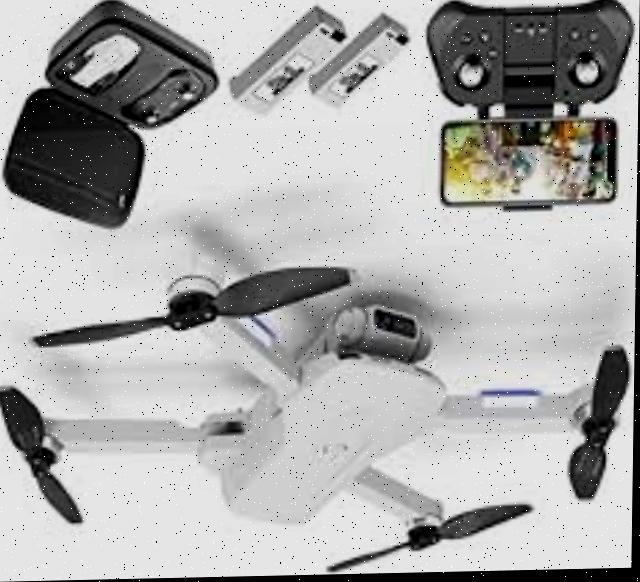drone: (0, 233, 637, 582)
